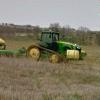Tractor: (18, 23, 92, 68)
